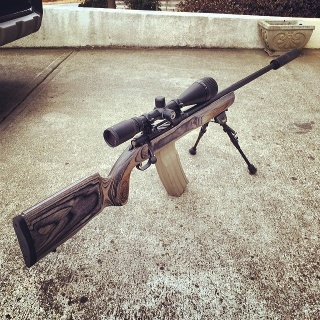rifle: (12, 47, 304, 269)
